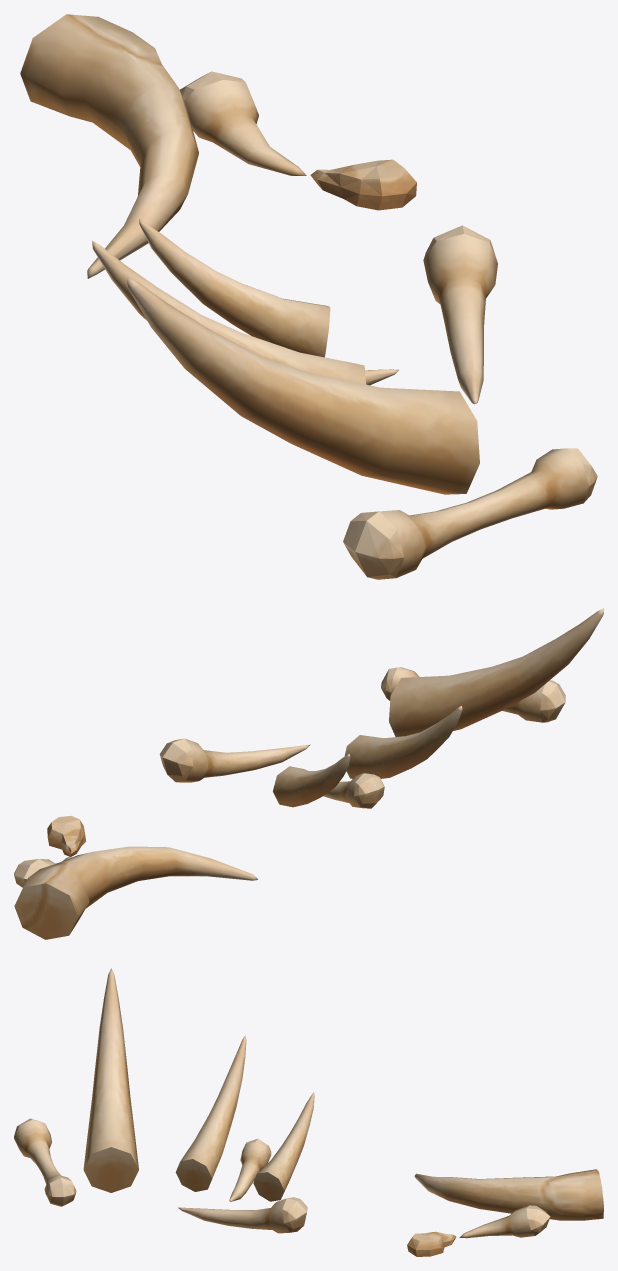
Rendered from Stage_ShaMo_GuTou04.FBX.
The picture shows the model from 3 angles, top to bottom: view 1: azimuth 30°, elevation 25°; view 2: azimuth 150°, elevation 25°; view 3: azimuth 270°, elevation 25°; orthographic projection. The views are drawn at different scales.
Parts seen in each view (by area): view 1: Stage_ShaMo_GuTou04; view 2: Stage_ShaMo_GuTou04; view 3: Stage_ShaMo_GuTou04.
Boxes of the visible parts, x1=… form: Stage_ShaMo_GuTou04: x1=20, y1=14, x2=597, y2=579; Stage_ShaMo_GuTou04: x1=14, y1=608, x2=603, y2=939; Stage_ShaMo_GuTou04: x1=14, y1=968, x2=603, y2=1256.
Bounding box in the file's own units: 341 × 163 × 587.
